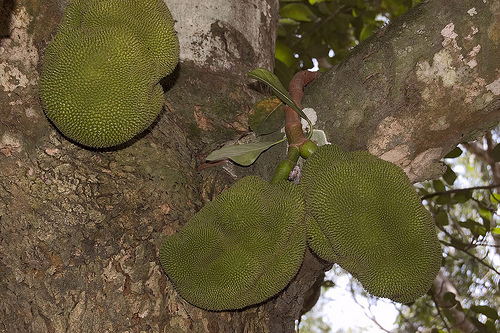jackfruit: (152, 144, 306, 313), (304, 145, 447, 307), (36, 0, 180, 148)
